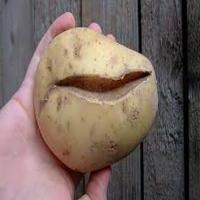biodegradable: (33, 26, 160, 174)
